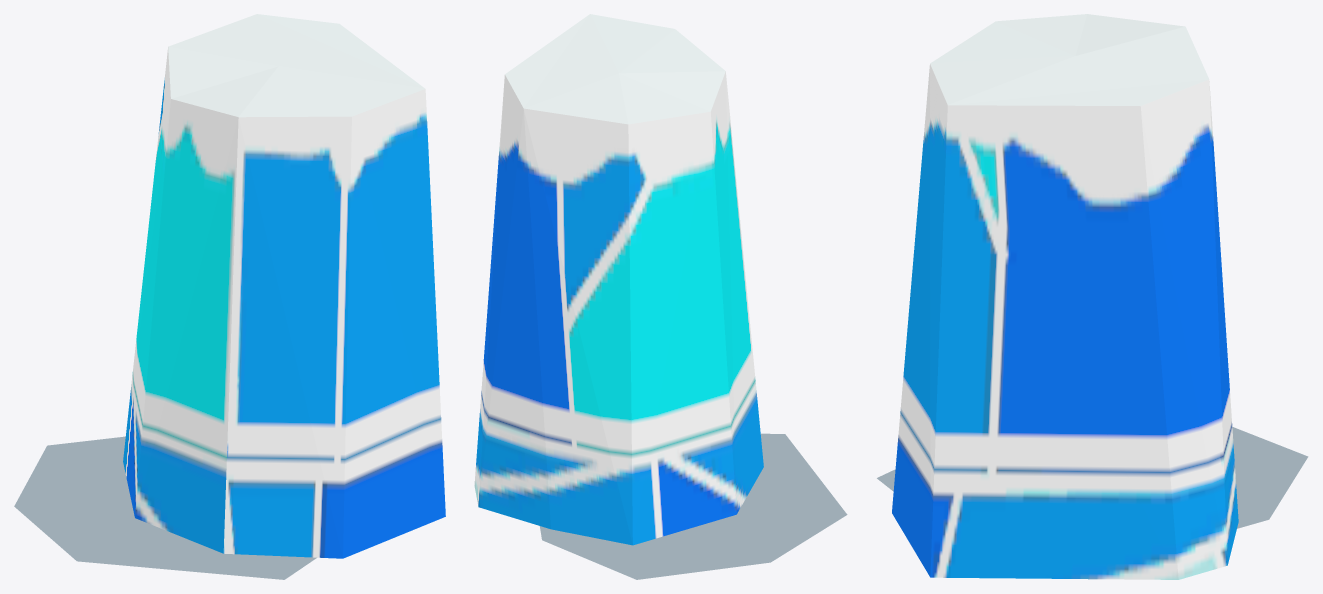
The model's file is Ice_Chair.glb.
The picture shows the model from 3 angles, left to right: view 1: azimuth 30°, elevation 25°; view 2: azimuth 150°, elevation 25°; view 3: azimuth 270°, elevation 25°; orthographic projection. The views are drawn at different scales.
Visible parts, largest first — view 1: Ice_Chair, Chair_Shadow; view 2: Ice_Chair, Chair_Shadow; view 3: Ice_Chair, Chair_Shadow.
Part boxes in pixels (bbox=[...]): Ice_Chair: bbox=[123, 14, 445, 558]; Chair_Shadow: bbox=[14, 437, 315, 579]; Ice_Chair: bbox=[474, 14, 763, 545]; Chair_Shadow: bbox=[540, 434, 846, 579]; Ice_Chair: bbox=[892, 14, 1238, 579]; Chair_Shadow: bbox=[877, 427, 1307, 528].
Bounding box in the file's own units: 1.55 × 1.93 × 1.62.
2 materials, 2 textured.
